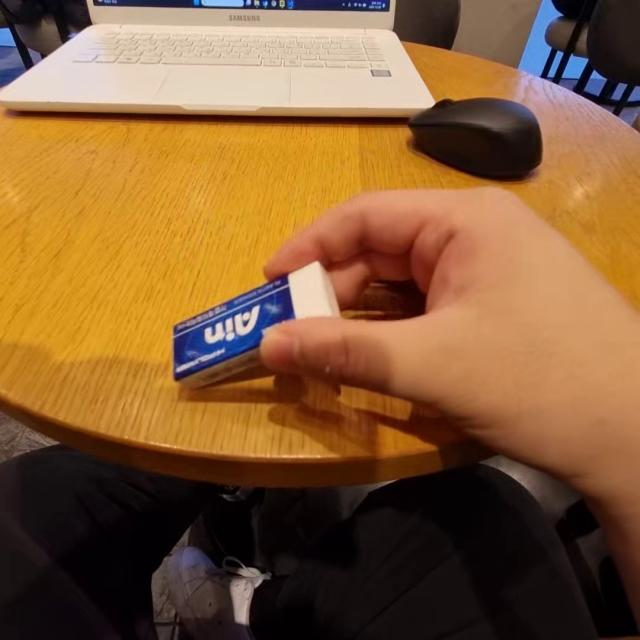eraser: (152, 267, 364, 388)
grab_eraser: (179, 182, 622, 462)
hand: (286, 166, 640, 398)
mouse: (409, 94, 550, 176)
